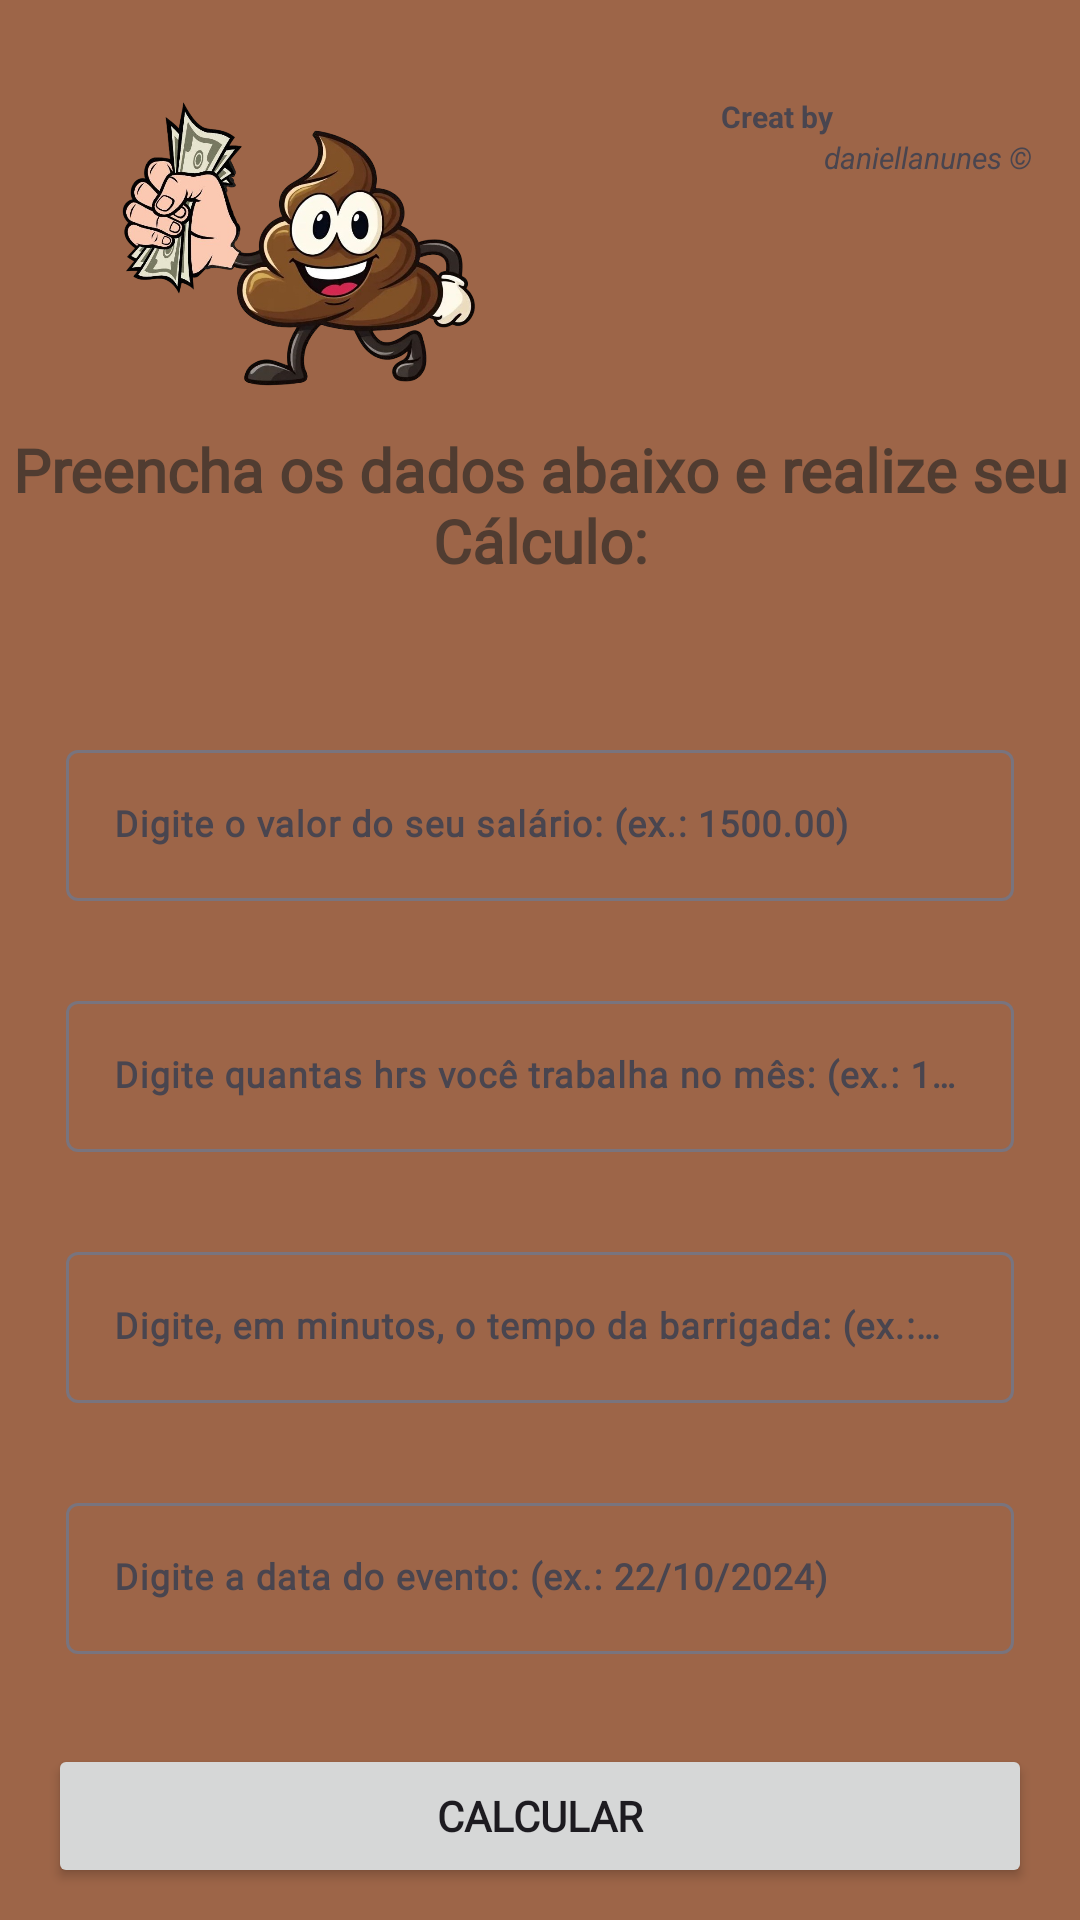

Icons on this 1080 x 1920 Android screen, each with its box as (x1, y1, x2, y2):
aimagem: (123, 102, 475, 385)
